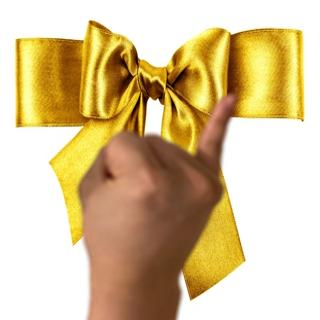FINE: (75, 87, 240, 296)
